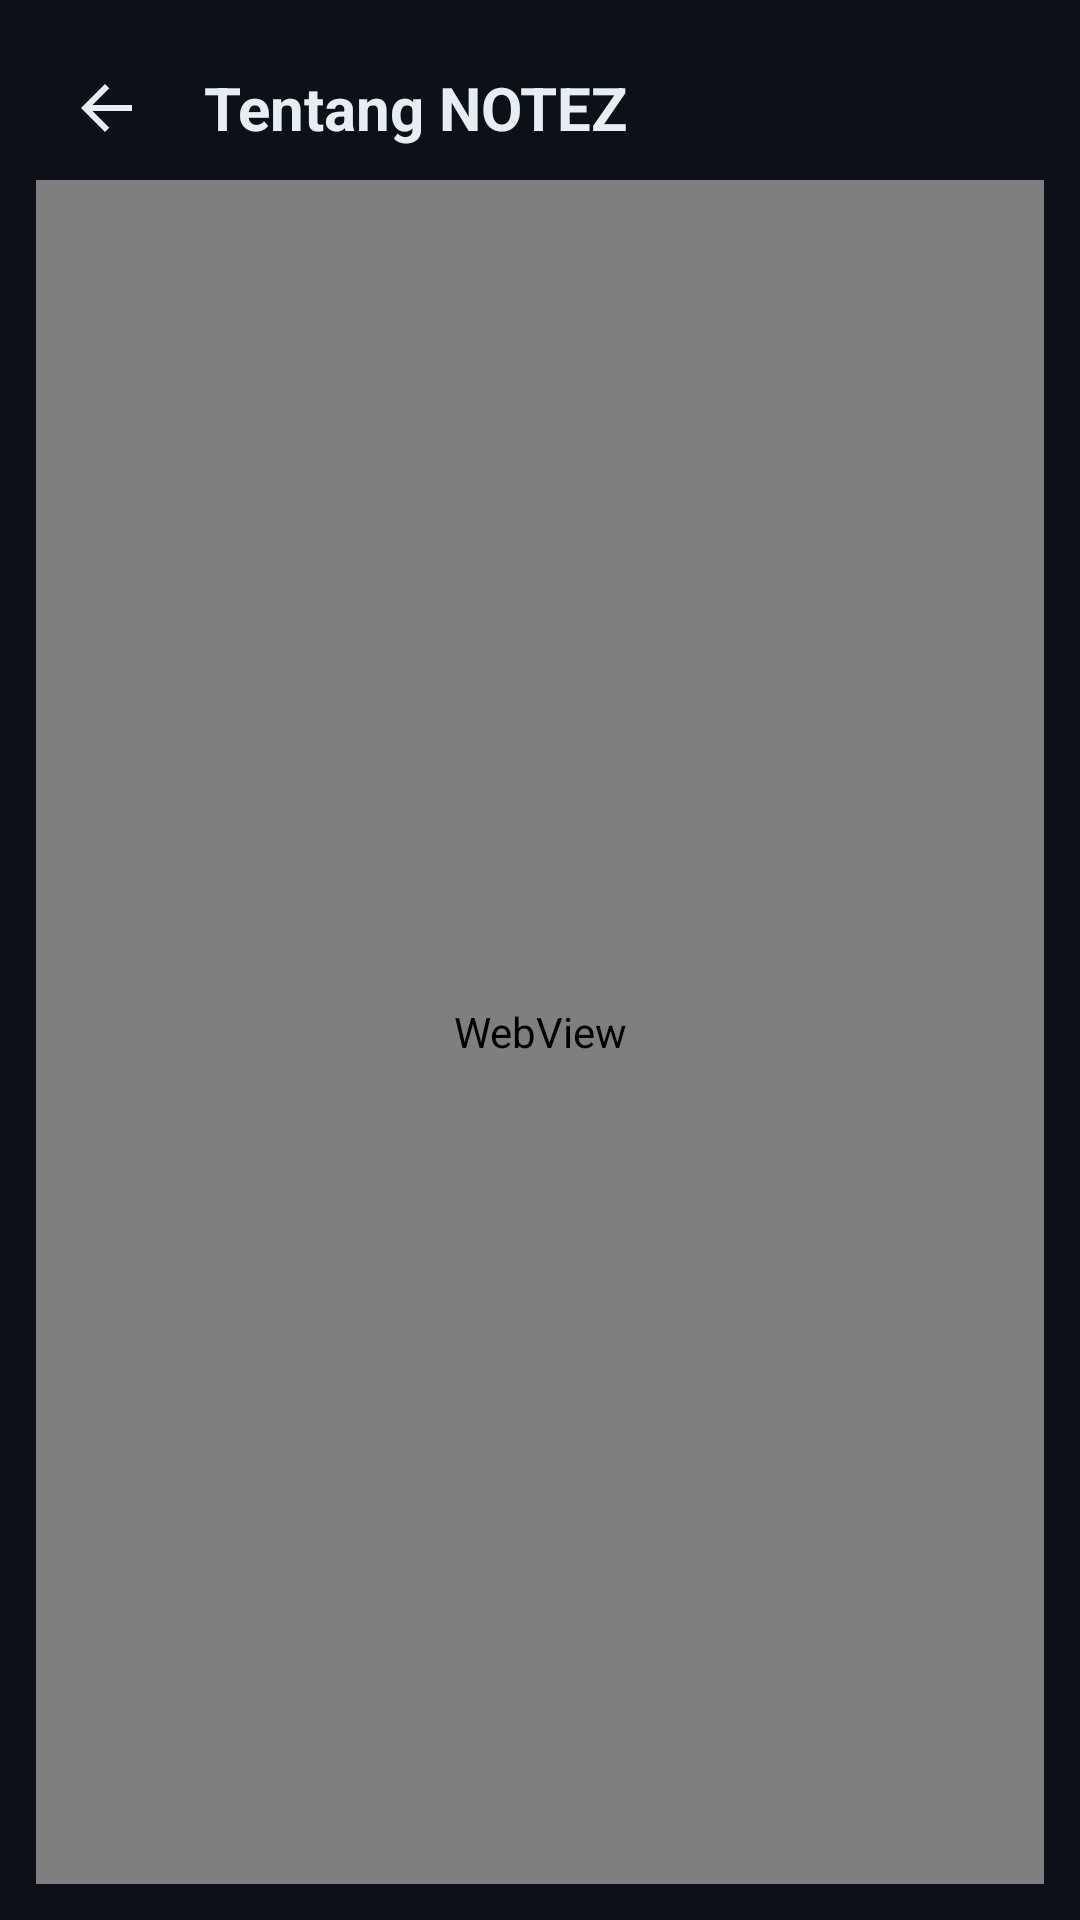

Icons on this 1080x1920 Android screen, each with the point to tap as point (x, y):
Kembali: point (106, 108)
